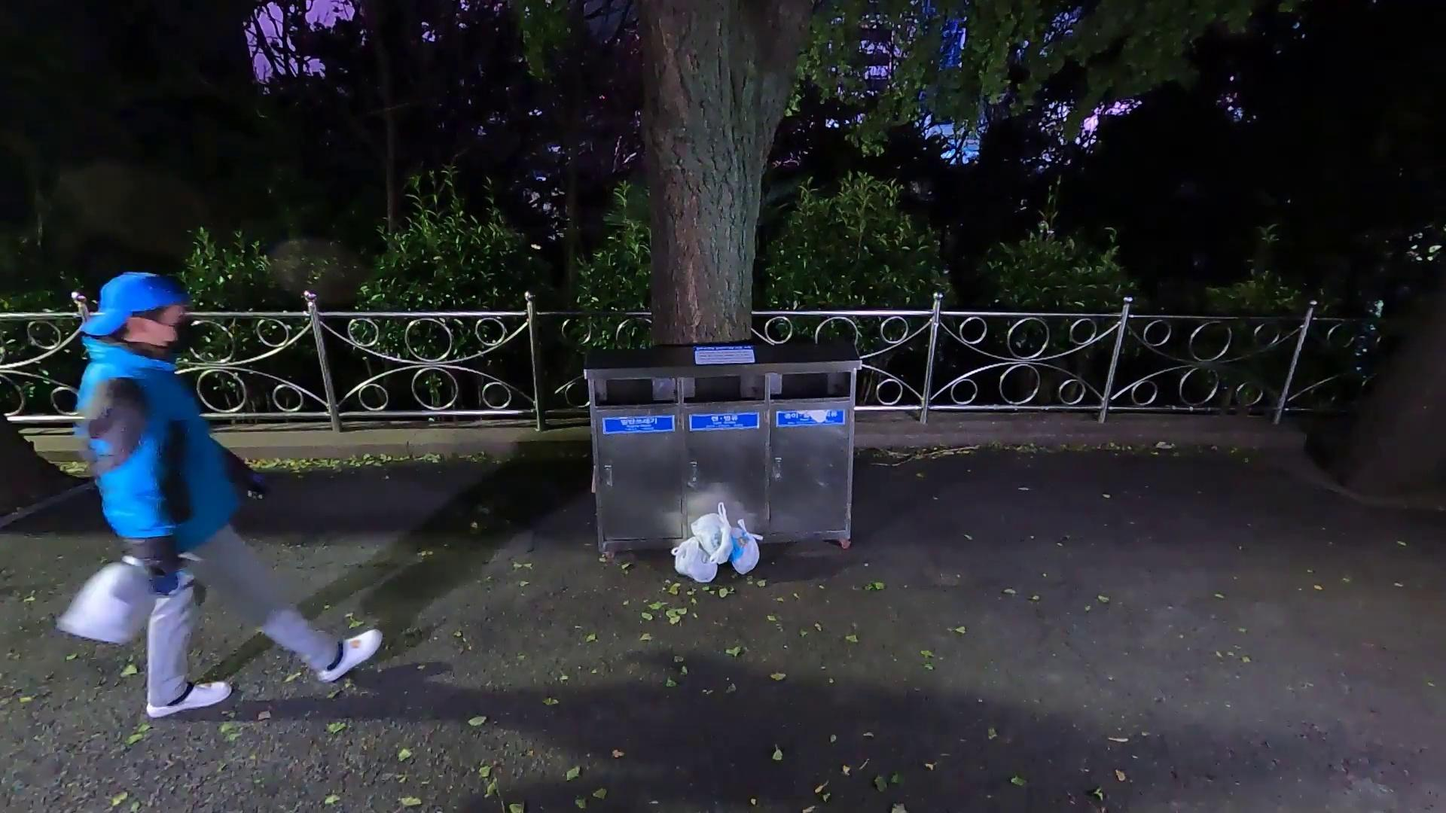person: (58, 273, 389, 723)
trash: (58, 550, 156, 655), (714, 517, 762, 573), (690, 502, 733, 563), (672, 536, 718, 584)
